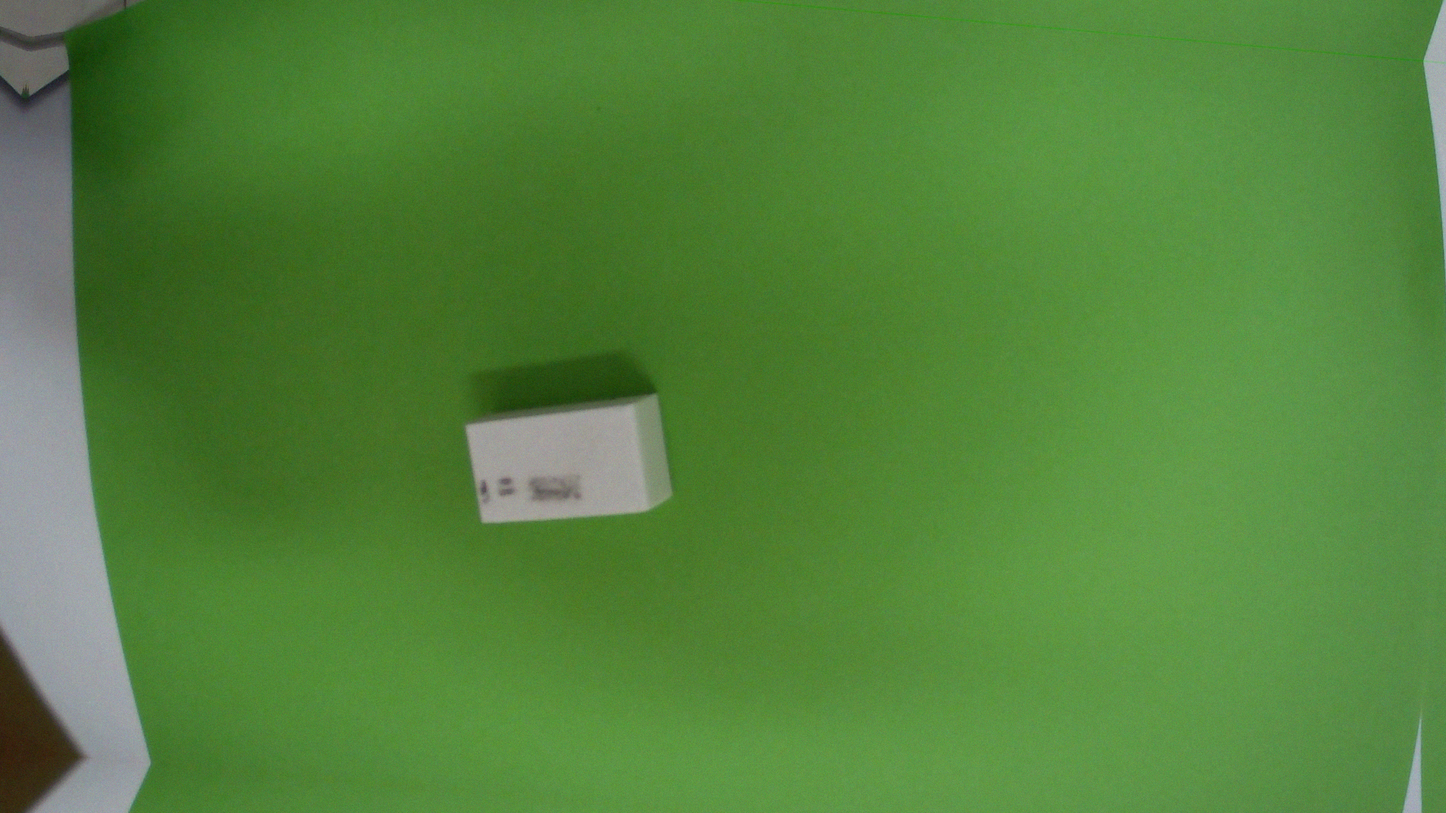gom: (459, 370, 679, 547)
